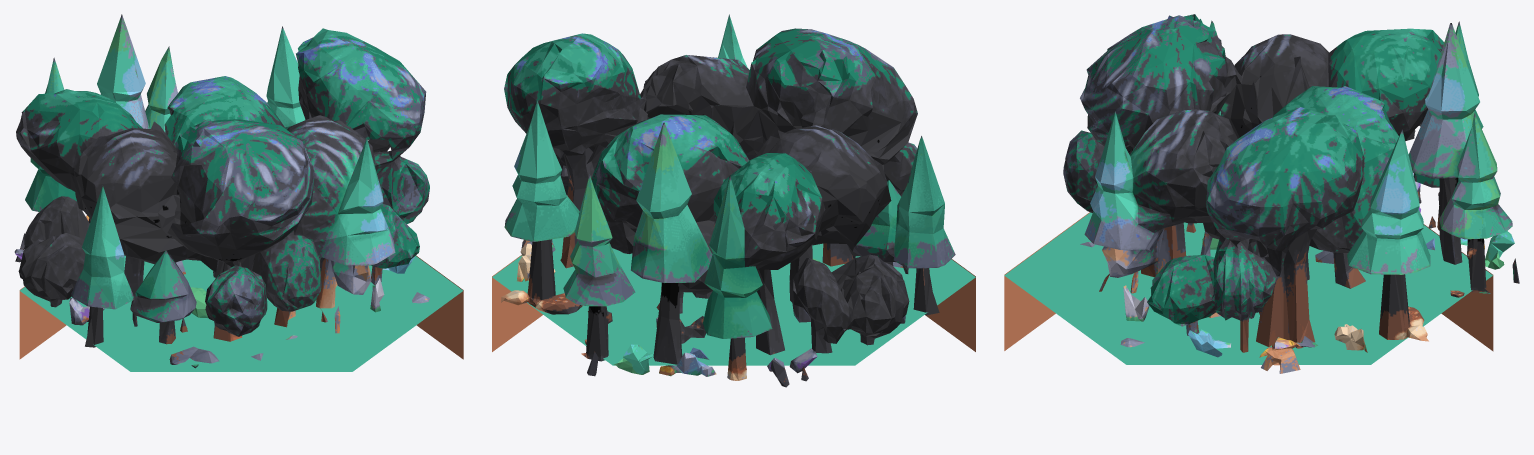
Rendered from elven-forest-3.glb.
3 renders of one model, left to right at view 1: azimuth 30°, elevation 25°; view 2: azimuth 150°, elevation 25°; view 3: azimuth 270°, elevation 25°, orthographic. The views are drawn at different scales.
Parts seen in each view (by area): view 1: world, hexBase; view 2: world, hexBase; view 3: world, hexBase.
Part boxes in pixels (x1,y1,x2,y2): world: [14, 14, 429, 368]; hexBase: [19, 255, 463, 371]; world: [501, 14, 955, 387]; hexBase: [492, 237, 975, 365]; world: [1063, 14, 1519, 373]; hexBase: [1004, 212, 1493, 364].
Bounding box in the file's own units: 1.13 × 0.8181 × 1.22.
Materials: 3 (1 with a texture image).
